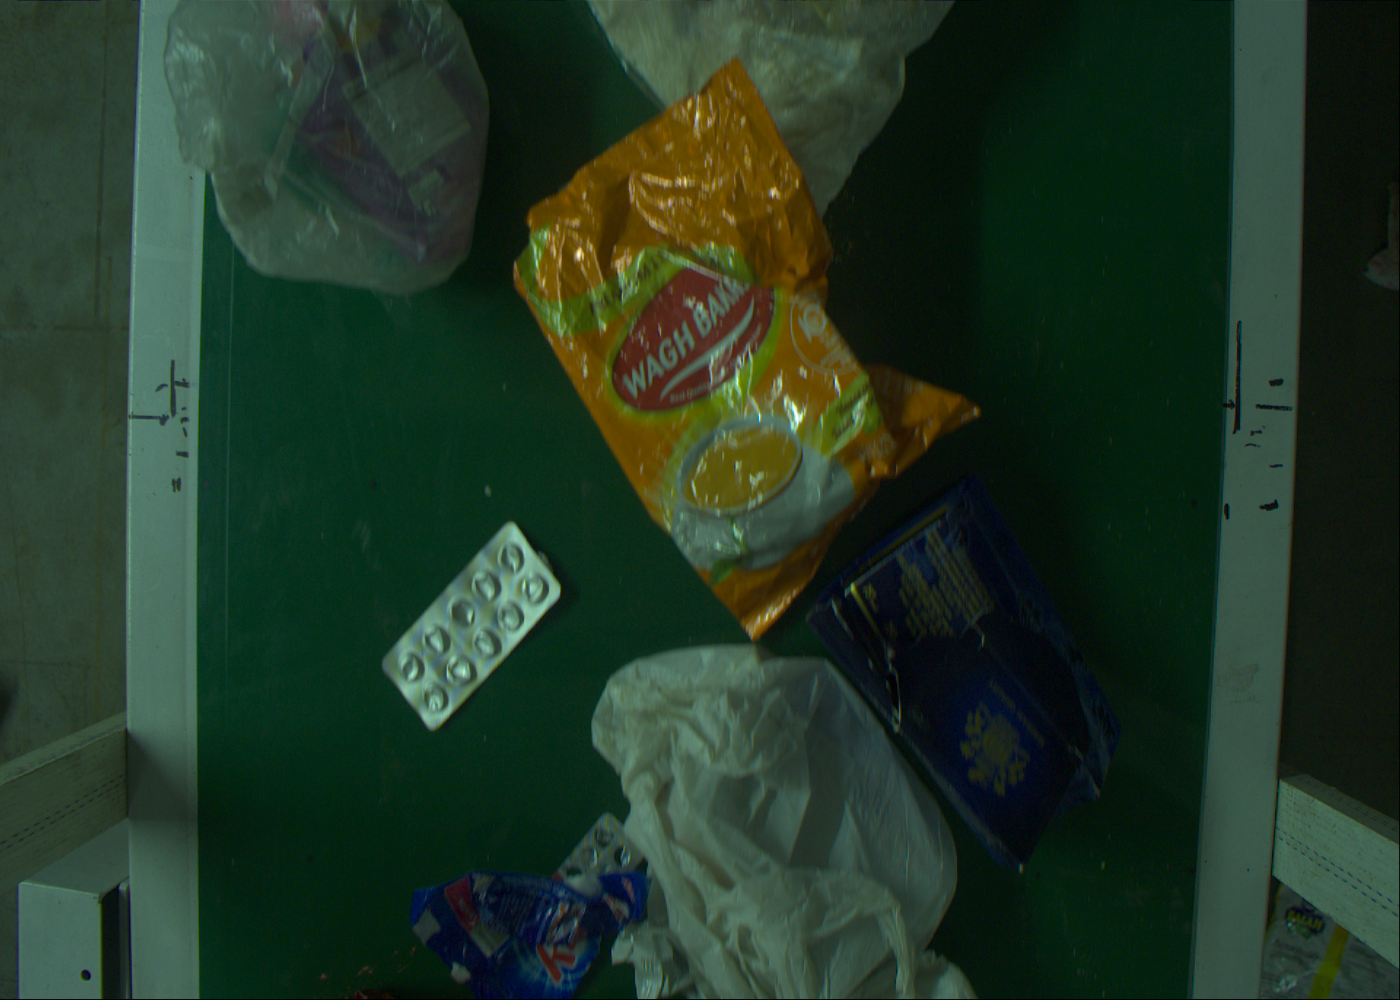aluminium_foil: (378, 519, 572, 746)
hm_ldpe: (592, 650, 975, 977)
multilayer_plastic: (523, 68, 994, 641), (800, 466, 1107, 861)
pp_w: (417, 867, 609, 995)
